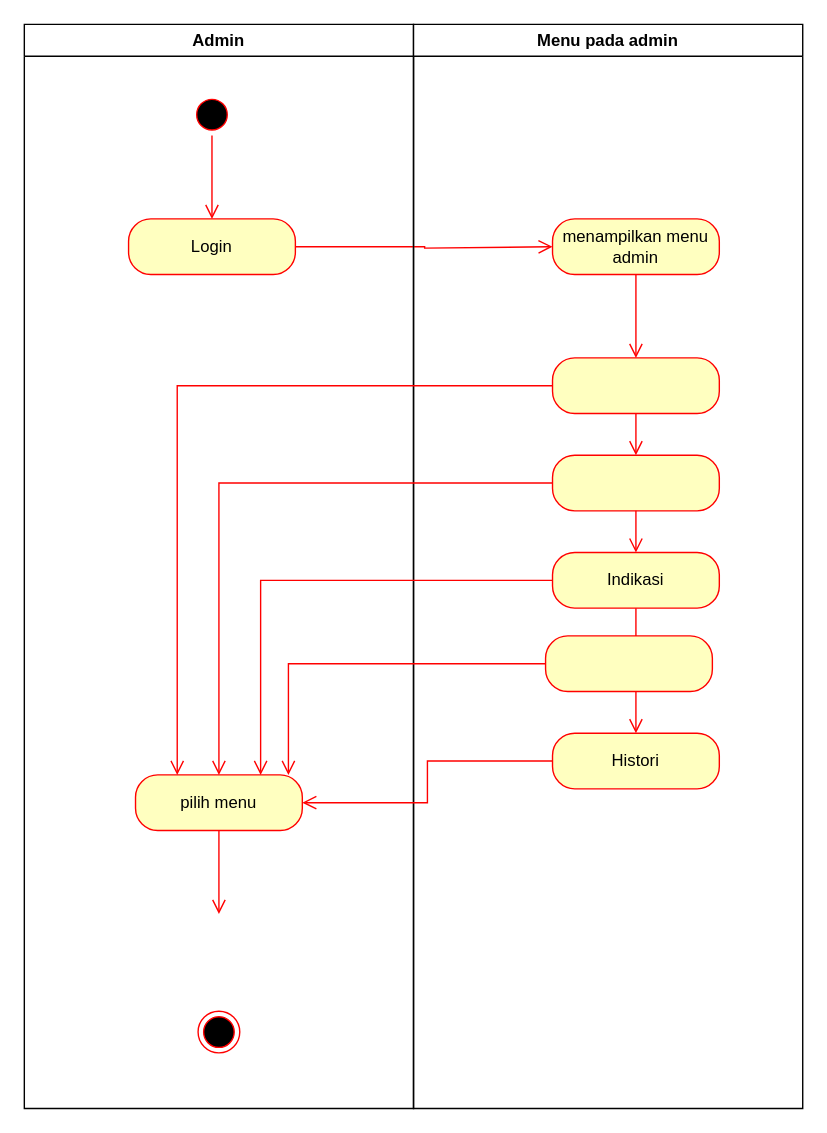
Some shapes in this 827 by 1133 pixel diagram are drawn without their labels. Here are the shapes that lost their labels. From the top down, the centre of each, then its label:
[635,385]: Beranda
[635,482]: Kepribadian
[628,663]: Aturan
